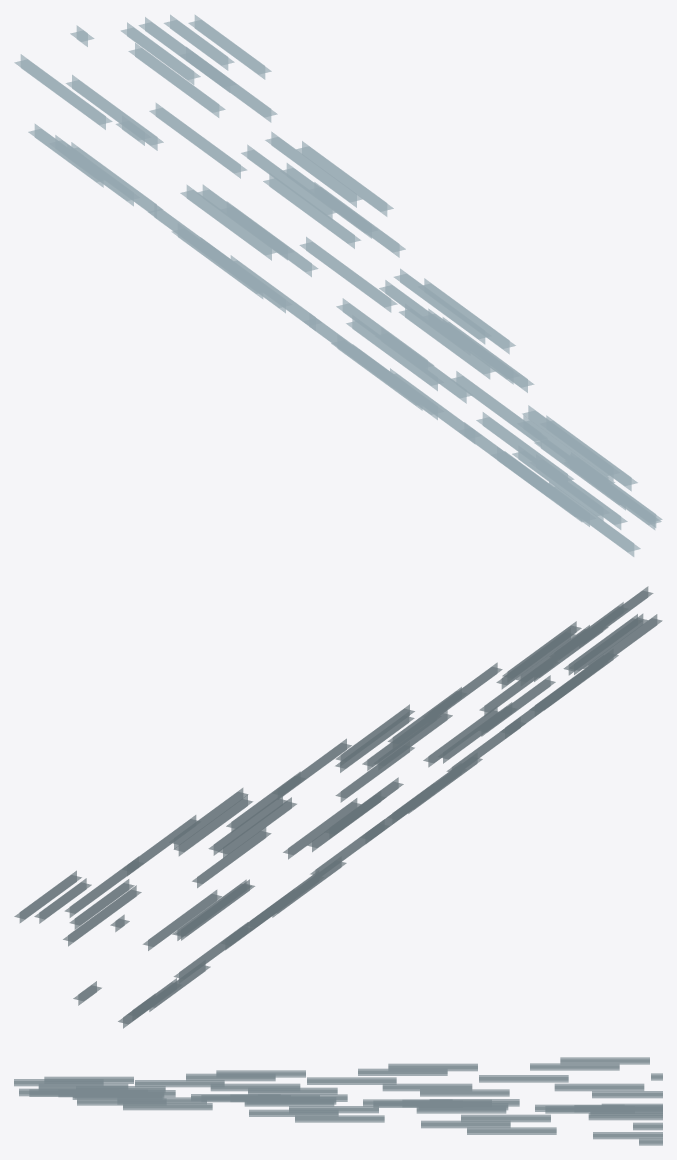
File: wp_water_341.obj
3 views of the same model, one above another, from view 1: azimuth 30°, elevation 25°; view 2: azimuth 150°, elevation 25°; view 3: azimuth 270°, elevation 25° (orthographic). The views are drawn at different scales.
Size of the model in its own units: 0.3244 by 0.2521 by 1.74.
Materials: 1 (1 with a texture image).
